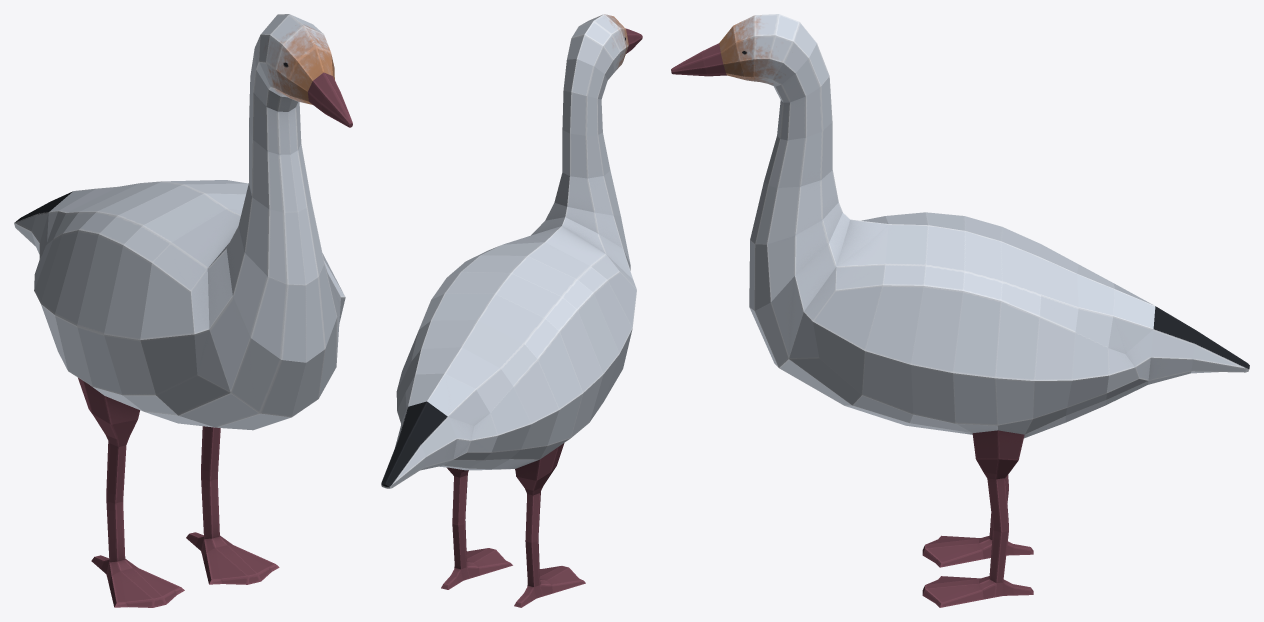
The model's file is LesserSnowGoose.obj.
3 views of the same model, side by side, from view 1: azimuth 30°, elevation 25°; view 2: azimuth 150°, elevation 25°; view 3: azimuth 270°, elevation 25° (orthographic). The views are drawn at different scales.
Visible parts, largest first — view 1: LesserSnowGoose_mesh; view 2: LesserSnowGoose_mesh; view 3: LesserSnowGoose_mesh.
Part boxes in pixels (<box>): LesserSnowGoose_mesh: <box>14,14,352,607</box>; LesserSnowGoose_mesh: <box>381,14,642,607</box>; LesserSnowGoose_mesh: <box>671,14,1249,607</box>.
Bounding box in the file's own units: 3.04 × 8.29 × 7.78.
Materials: 1 (1 with a texture image).
